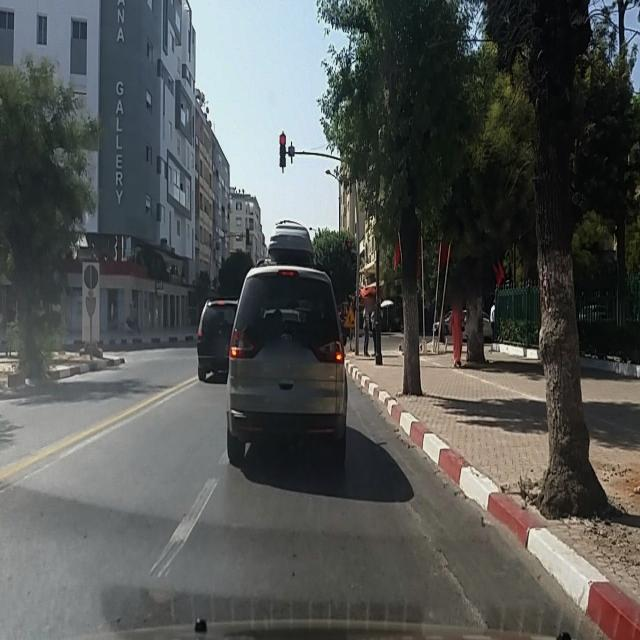car: (226, 221, 348, 471), (196, 296, 240, 382)
